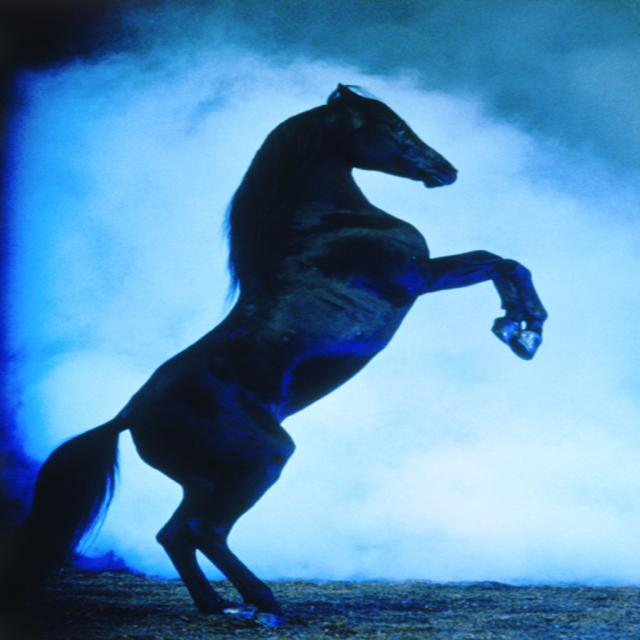Horse: (24, 83, 546, 628)
